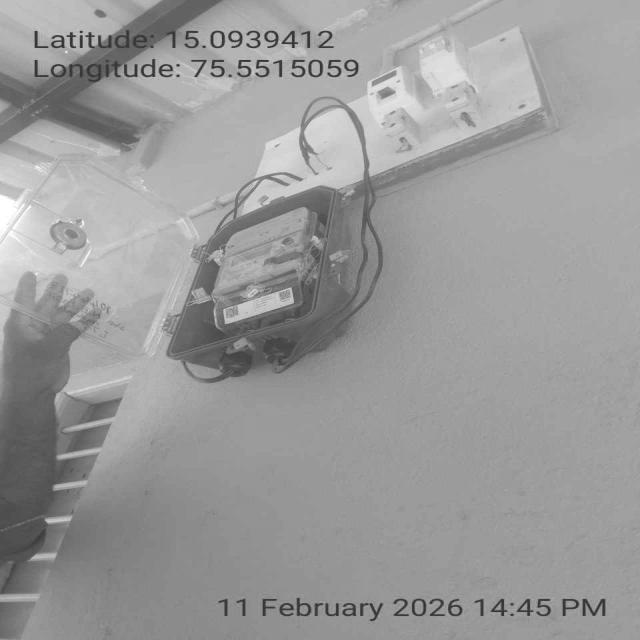meter: (211, 223, 308, 285)
